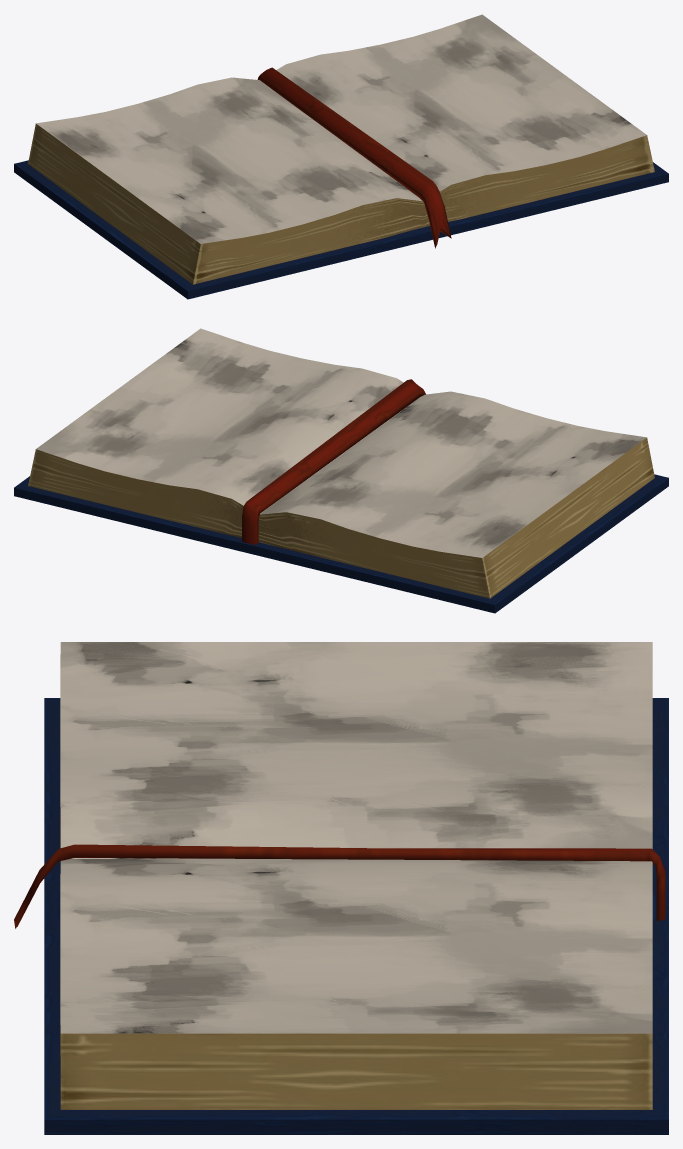
The model's file is Book_Open.gltf.
3 renders of one model, top to bottom at view 1: azimuth 30°, elevation 25°; view 2: azimuth 150°, elevation 25°; view 3: azimuth 270°, elevation 25°, orthographic. The views are drawn at different scales.
Visible parts, largest first — view 1: Book_Open; view 2: Book_Open; view 3: Book_Open.
Boxes of the visible parts, x1=… form: Book_Open: x1=14, y1=14, x2=668, y2=299; Book_Open: x1=14, y1=328, x2=668, y2=613; Book_Open: x1=14, y1=642, x2=668, y2=1134.
Bounding box in the file's own units: 0.4588 × 0.0481 × 0.3011.
3 materials, 3 textured.
